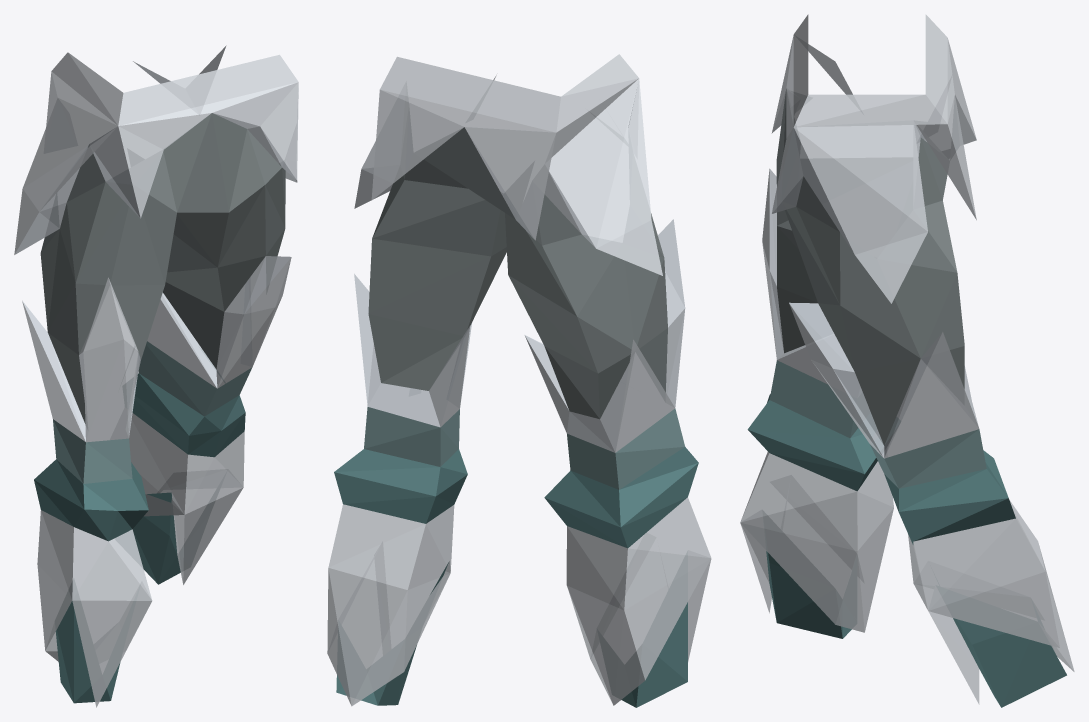
File: player_crystal_legs.glb
3 renders of one model, left to right at view 1: azimuth 30°, elevation 25°; view 2: azimuth 150°, elevation 25°; view 3: azimuth 270°, elevation 25°, orthographic. The views are drawn at different scales.
Size of the model in its own units: 47.99 by 94.81 by 45.65.
2 materials, 2 textured.
